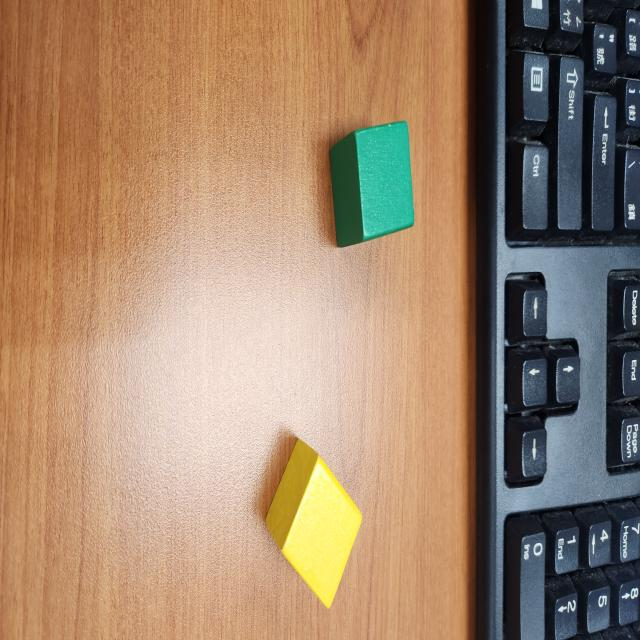green: (327, 118, 416, 250)
yellow: (262, 441, 362, 611)
